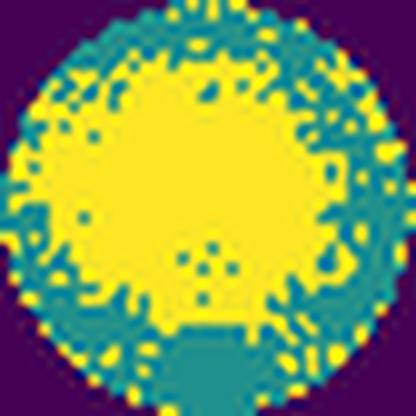Center: (47, 57, 349, 323)
